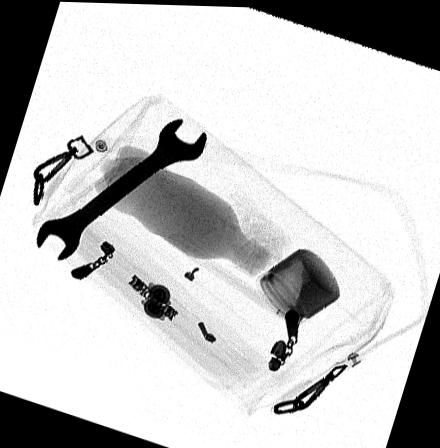Wrench: (35, 116, 206, 260)
